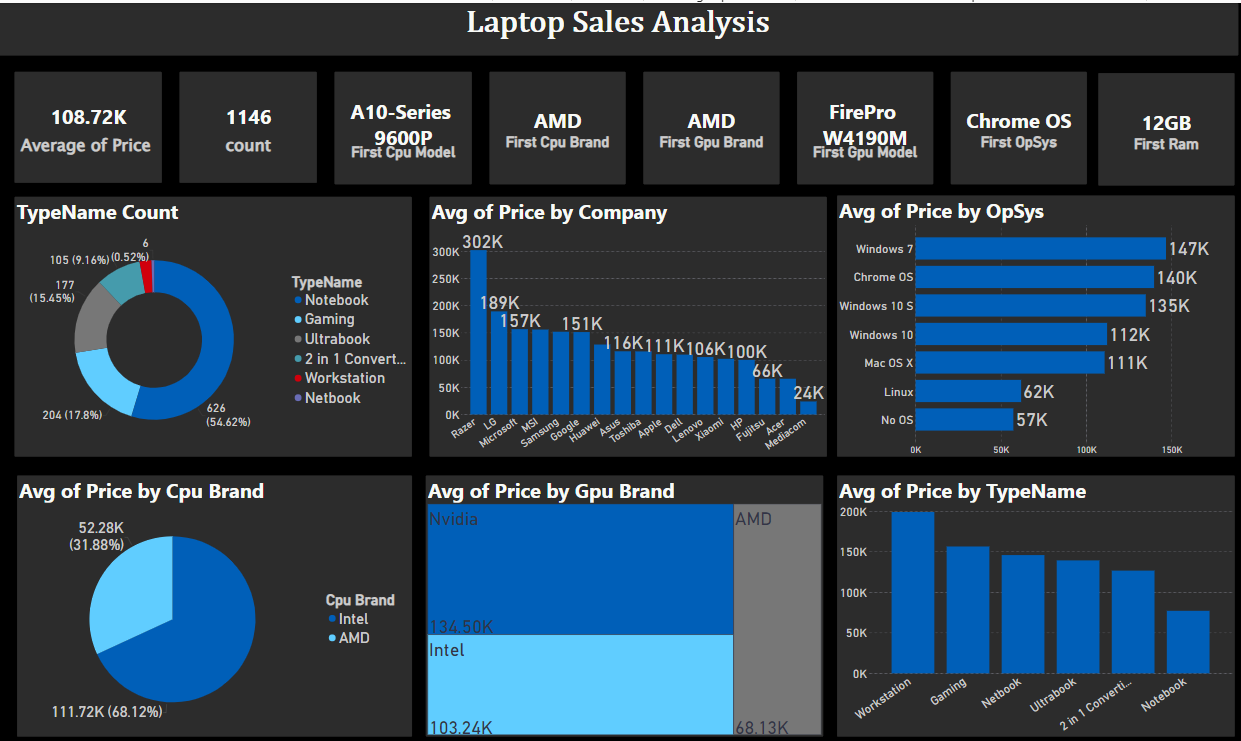

The page's visual inventory and layout, read from the dashboard file:
{"tool":"powerbi","page":{"name":"Page 1","canvas":[5000,3000],"ordinal":0},"visuals":[{"type":"textbox","title":"Laptop Sales Analysis","box":[0,0,4991.6,211.1],"z":1000},{"type":"card","fields":{"Values":["Laptop-Price.count"]},"box":[733.9,278.3,553,447.4],"z":3000},{"type":"card","fields":{"Values":["Min(Laptop-Price.Cpu Model)"]},"box":[1357.2,275.8,553,452.4],"z":4000},{"type":"card","title":"GPU Model","fields":{"Values":["Min(Laptop-Price.Cpu Brand)"]},"box":[1980.6,275.8,547.9,452.4],"z":5000},{"type":"card","fields":{"Values":["Min(Laptop-Price.Gpu Model)"]},"box":[3217.2,275.8,547.9,452.4],"z":6000},{"type":"card","fields":{"Values":["Min(Laptop-Price.Gpu Brand)"]},"box":[2598.9,275.8,547.9,452.4],"z":7000},{"type":"card","fields":{"Values":["Min(Laptop-Price.OpSys)"]},"box":[3835.5,275.8,547.9,452.4],"z":8000},{"type":"card","fields":{"Values":["Min(Laptop-Price.Ram)"]},"box":[4428.6,281.5,547.9,452.4],"z":9000},{"type":"card","fields":{"Values":["Avg(Laptop-Price.Price )"]},"box":[70.4,278.3,593.2,447.4],"z":10000},{"type":"donutChart","title":"TypeName Count","fields":{"Y":["Laptop-Price.count"],"Category":["Laptop-Price.TypeName"]},"box":[70.4,779.2,1598.5,1045.6],"z":11000},{"type":"columnChart","fields":{"Category":["Laptop-Price.Company"],"Y":["Avg(Laptop-Price.Price )"]},"box":[1739.3,779.2,1598.5,1045.6],"z":12000},{"type":"barChart","fields":{"Category":["Laptop-Price.OpSys"],"Y":["Avg(Laptop-Price.Price )"]},"box":[3378,774.1,1600,1050.6],"z":13000},{"type":"pieChart","fields":{"Y":["Avg(Laptop-Price.Price )"],"Category":["Laptop-Price.Cpu Brand"]},"box":[80.4,1900.1,1588.5,1050.6],"z":14000},{"type":"treemap","fields":{"Group":["Laptop-Price.Gpu Brand"],"Values":["Avg(Laptop-Price.Price )"]},"box":[1724.2,1900.1,1598.5,1050.6],"z":15000},{"type":"columnChart","fields":{"Y":["Avg(Laptop-Price.Price )"],"Category":["Laptop-Price.TypeName"]},"box":[3378,1900.1,1600,1050.6],"z":16000}]}

Visuals, with their boxes in screenshot pixels (x1, y1, x2, y2), scaled from the page's 5000x3000 canvas onto the 1241x741 screenshot:
"Laptop Sales Analysis" textbox: select_region(0, 0, 1239, 52)
card - Laptop-Price.count: select_region(182, 69, 319, 179)
card - Min(Laptop-Price.Cpu Model): select_region(337, 68, 474, 180)
"GPU Model" card: select_region(492, 68, 628, 180)
card - Min(Laptop-Price.Gpu Model): select_region(799, 68, 934, 180)
card - Min(Laptop-Price.Gpu Brand): select_region(645, 68, 781, 180)
card - Min(Laptop-Price.OpSys): select_region(952, 68, 1088, 180)
card - Min(Laptop-Price.Ram): select_region(1099, 70, 1235, 181)
card - Avg(Laptop-Price.Price ): select_region(17, 69, 165, 179)
"TypeName Count" donutChart: select_region(17, 192, 414, 451)
columnChart - Laptop-Price.Company x Avg(Laptop-Price.Price ): select_region(432, 192, 828, 451)
barChart - Laptop-Price.OpSys x Avg(Laptop-Price.Price ): select_region(838, 191, 1236, 451)
pieChart - Avg(Laptop-Price.Price ) x Laptop-Price.Cpu Brand: select_region(20, 469, 414, 729)
treemap - Laptop-Price.Gpu Brand x Avg(Laptop-Price.Price ): select_region(428, 469, 825, 729)
columnChart - Avg(Laptop-Price.Price ) x Laptop-Price.TypeName: select_region(838, 469, 1236, 729)
